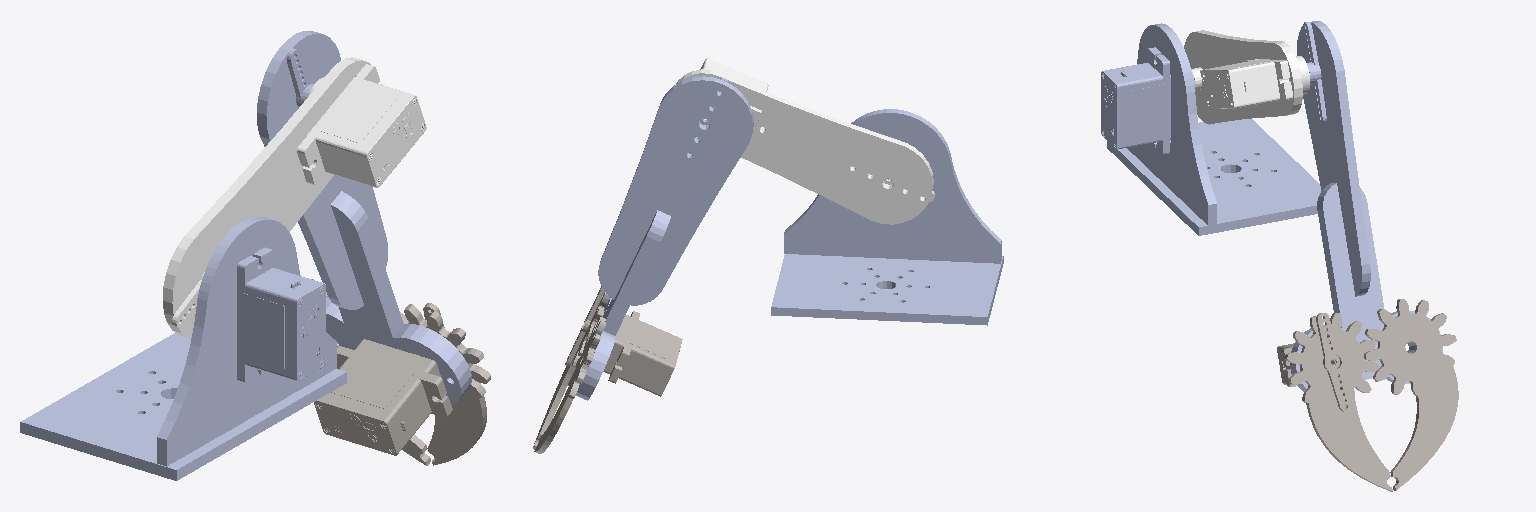
URDF robot description (Mario_Assembly):
<?xml version="1.0" encoding="utf-8"?>
<!-- This URDF was automatically created by SolidWorks to URDF Exporter! Originally created by [author] ([email redacted]) 
     Commit Version: 1.6.0-4-g7f85cfe  Build Version: 1.6.7995.38578
     For more information, please see http://wiki.ros.org/sw_urdf_exporter -->
<robot
  name="Mario_Assembly">
  <link
    name="Link_1">
    <inertial>
      <origin
        xyz="0.0041195959433721 0.00474968738105286 0.0289356503363691"
        rpy="0 0 0" />
      <mass
        value="0.214712543801582" />
      <inertia
        ixx="0.00010967808746877"
        ixy="-1.0338372982007E-07"
        ixz="-1.11754917199067E-08"
        iyy="8.35184775203106E-05"
        iyz="3.3909748429294E-08"
        izz="0.000184527790301755" />
    </inertial>
    <visual>
      <origin
        xyz="0 0 0"
        rpy="0 0 0" />
      <geometry>
        <mesh
          filename="package://Mario_Assembly/meshes/Link_1.STL" />
      </geometry>
      <material
        name="">
        <color
          rgba="0.627450980392157 0.627450980392157 0.627450980392157 1" />
      </material>
    </visual>
    <collision>
      <origin
        xyz="0 0 0"
        rpy="0 0 0" />
      <geometry>
        <mesh
          filename="package://Mario_Assembly/meshes/Link_1.STL" />
      </geometry>
    </collision>
  </link>
  <link
    name="Link_2">
    <inertial>
      <origin
        xyz="0.00844494644797055 -0.014373202054543 0.0219378314160253"
        rpy="0 0 0" />
      <mass
        value="0.0265256898848201" />
      <inertia
        ixx="5.07905383664275E-06"
        ixy="-1.89949777750374E-06"
        ixz="5.62670436619023E-09"
        iyy="7.27239464343923E-06"
        iyz="-1.13772261296904E-08"
        izz="8.11525741647489E-06" />
    </inertial>
    <visual>
      <origin
        xyz="0 0 0"
        rpy="0 0 0" />
      <geometry>
        <mesh
          filename="package://Mario_Assembly/meshes/Link_2.STL" />
      </geometry>
      <material
        name="">
        <color
          rgba="0.792156862745098 0.819607843137255 0.933333333333333 1" />
      </material>
    </visual>
    <collision>
      <origin
        xyz="0 0 0"
        rpy="0 0 0" />
      <geometry>
        <mesh
          filename="package://Mario_Assembly/meshes/Link_2.STL" />
      </geometry>
    </collision>
  </link>
  <joint
    name="Joint_1"
    type="continuous">
    <origin
      xyz="0 0 0.0791"
      rpy="0 0 -0.10872" />
    <parent
      link="Link_1" />
    <child
      link="Link_2" />
    <axis
      xyz="0 0 1" />
  </joint>
  <link
    name="Link_3">
    <inertial>
      <origin
        xyz="0.0415244195997565 -0.0129071157484673 0.0173525674706036"
        rpy="0 0 0" />
      <mass
        value="0.0151482076710041" />
      <inertia
        ixx="9.89600577660498E-07"
        ixy="-1.16832960218687E-08"
        ixz="-1.13095249415414E-06"
        iyy="4.08760796218019E-06"
        iyz="-4.89230666582289E-09"
        izz="3.24049453369696E-06" />
    </inertial>
    <visual>
      <origin
        xyz="0 0 0"
        rpy="0 0 0" />
      <geometry>
        <mesh
          filename="package://Mario_Assembly/meshes/Link_3.STL" />
      </geometry>
      <material
        name="">
        <color
          rgba="1 1 1 1" />
      </material>
    </visual>
    <collision>
      <origin
        xyz="0 0 0"
        rpy="0 0 0" />
      <geometry>
        <mesh
          filename="package://Mario_Assembly/meshes/Link_3.STL" />
      </geometry>
    </collision>
  </link>
  <joint
    name="Joint_2"
    type="continuous">
    <origin
      xyz="0.0001882 0.00010866 0.041252"
      rpy="0 0 0.5236" />
    <parent
      link="Link_2" />
    <child
      link="Link_3" />
    <axis
      xyz="0 1 0" />
  </joint>
  <link
    name="Link_4">
    <inertial>
      <origin
        xyz="6.81242883400768E-05 0.00544054198441336 -0.050702180874678"
        rpy="0 0 0" />
      <mass
        value="0.0134427034473215" />
      <inertia
        ixx="6.18410233101787E-06"
        ixy="-9.60758244313861E-10"
        ixz="5.33916891854104E-08"
        iyy="5.76244797172349E-06"
        iyz="1.04670762378509E-07"
        izz="1.20929671367831E-06" />
    </inertial>
    <visual>
      <origin
        xyz="0 0 0"
        rpy="0 0 0" />
      <geometry>
        <mesh
          filename="package://Mario_Assembly/meshes/Link_4.STL" />
      </geometry>
      <material
        name="">
        <color
          rgba="0.792156862745098 0.819607843137255 0.933333333333333 1" />
      </material>
    </visual>
    <collision>
      <origin
        xyz="0 0 0"
        rpy="0 0 0" />
      <geometry>
        <mesh
          filename="package://Mario_Assembly/meshes/Link_4.STL" />
      </geometry>
    </collision>
  </link>
  <joint
    name="Joint_3"
    type="continuous">
    <origin
      xyz="0.05866 0 0.024588"
      rpy="0 -0.39691 0" />
    <parent
      link="Link_3" />
    <child
      link="Link_4" />
    <axis
      xyz="0 1 0" />
  </joint>
  <link
    name="Gripper">
    <inertial>
      <origin
        xyz="-0.00103575530339417 -0.0150506847386816 -0.00770061041542727"
        rpy="0 0 0" />
      <mass
        value="0.0362377387684965" />
      <inertia
        ixx="7.24170443133569E-06"
        ixy="1.2661855343743E-08"
        ixz="3.65846228261207E-12"
        iyy="5.71598842039774E-06"
        iyz="1.88317583468337E-07"
        izz="1.67751526700136E-06" />
    </inertial>
    <visual>
      <origin
        xyz="0 0 0"
        rpy="0 0 0" />
      <geometry>
        <mesh
          filename="package://Mario_Assembly/meshes/Gripper.STL" />
      </geometry>
      <material
        name="">
        <color
          rgba="0.776470588235294 0.756862745098039 0.737254901960784 1" />
      </material>
    </visual>
    <collision>
      <origin
        xyz="0 0 0"
        rpy="0 0 0" />
      <geometry>
        <mesh
          filename="package://Mario_Assembly/meshes/Gripper.STL" />
      </geometry>
    </collision>
  </link>
  <joint
    name="Joint_4"
    type="continuous">
    <origin
      xyz="0.00082495 0.018376 -0.089872"
      rpy="0 -0.0091789 0" />
    <parent
      link="Link_4" />
    <child
      link="Gripper" />
    <axis
      xyz="1 0 0" />
  </joint>
</robot>

--- What the picture shows (computed from the rendered views, not written in the file) ---
The picture shows the robot from 3 angles, left to right: view 1: azimuth 30°, elevation 25°; view 2: azimuth 150°, elevation 25°; view 3: azimuth 270°, elevation 25°; orthographic projection.
Robot: Mario_Assembly — 5 links, 4 joints (4 continuous); root link Link_1; default pose: all joints at 0.
Visible links, largest first — view 1: Link_2, Link_3, Link_4, Gripper; view 2: Link_2, Link_4, Link_3, Gripper; view 3: Link_2, Gripper, Link_4, Link_3.
Link boxes in pixels (box(x1,y1,x2,y2)): Link_2: box(20, 217, 346, 480); Link_3: box(163, 57, 426, 337); Link_4: box(257, 31, 471, 404); Gripper: box(312, 279, 490, 465); Link_2: box(771, 109, 1003, 325); Link_4: box(575, 76, 753, 400); Link_3: box(676, 58, 934, 224); Gripper: box(533, 286, 682, 453); Link_2: box(1101, 23, 1320, 235); Gripper: box(1277, 299, 1458, 491); Link_4: box(1290, 21, 1442, 391); Link_3: box(1184, 30, 1309, 124).
Size in the robot's own frame: 0.1468 by 0.1115 by 0.1375 metres.
Meshes: 5 distinct files referenced, 4 mesh visuals loaded (4 binary STL); not drawn: 1 (reference not matched to a file when rendering).
